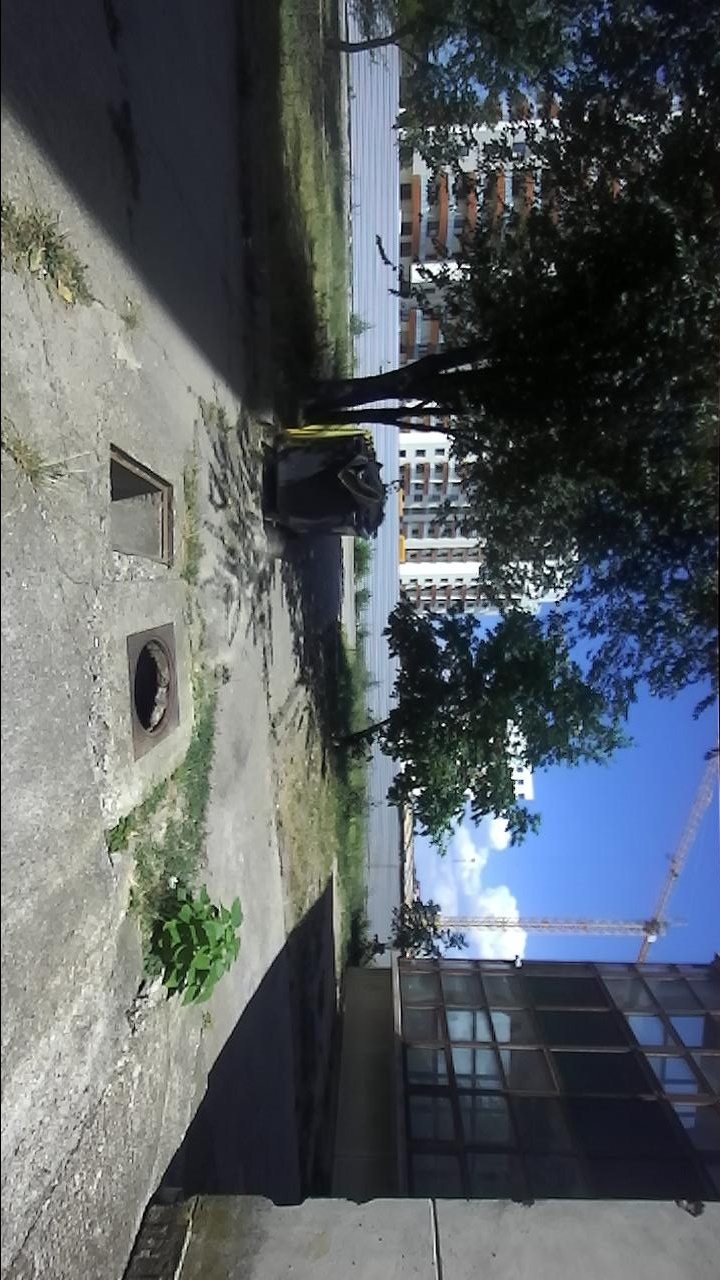drain: (106, 438, 177, 573), (126, 637, 175, 739)
